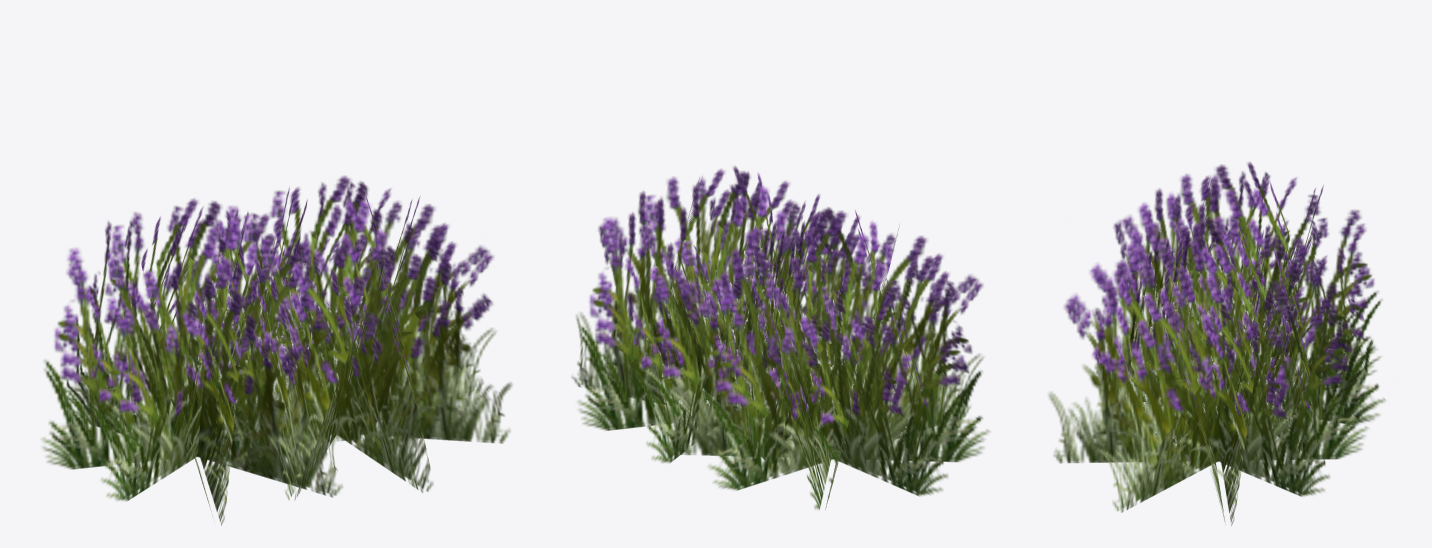
Rendered from plant-03.glb.
3 renders of one model, left to right at view 1: azimuth 30°, elevation 25°; view 2: azimuth 150°, elevation 25°; view 3: azimuth 270°, elevation 25°, orthographic. The views are drawn at different scales.
Visible parts, largest first — view 1: lavender_bush_01; view 2: lavender_bush_01; view 3: lavender_bush_01.
Boxes of the visible parts, left/top/right/bottom form: lavender_bush_01: left=42, top=175, right=511, bottom=525; lavender_bush_01: left=572, top=166, right=989, bottom=509; lavender_bush_01: left=1048, top=161, right=1385, bottom=525.
Bounding box in the file's own units: 4.95 × 3.59 × 3.82.
Materials: 1 (1 with a texture image).
